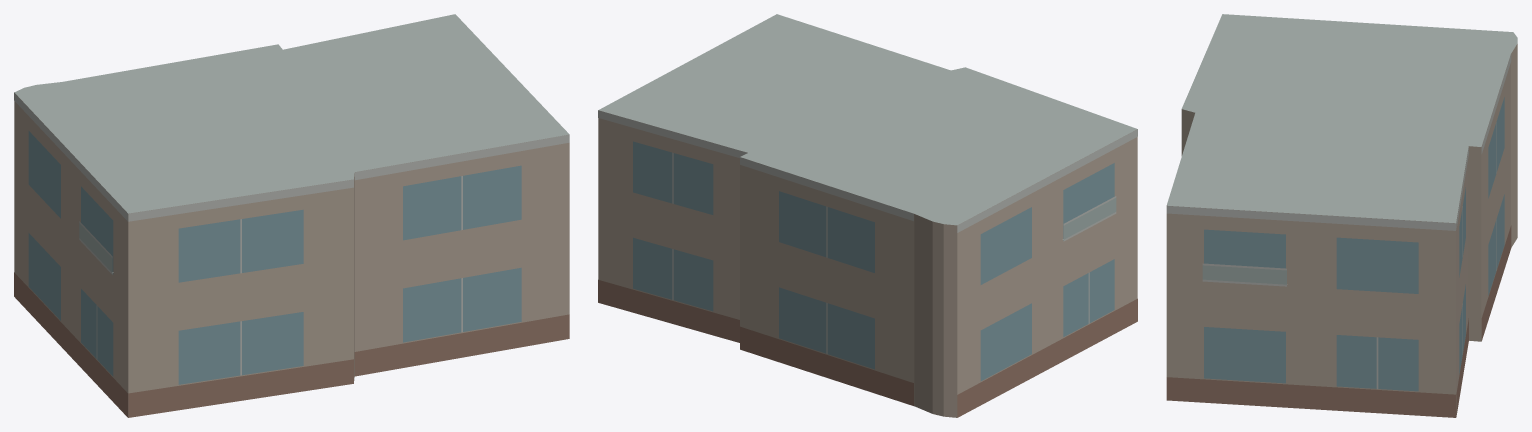
Rendered from survey-upis-33007118.glb.
3 views of the same model, side by side, from view 1: azimuth 30°, elevation 25°; view 2: azimuth 150°, elevation 25°; view 3: azimuth 270°, elevation 25° (orthographic). The views are drawn at different scales.
Visible parts, largest first — view 1: survey-upis-33007118.tmp; view 2: survey-upis-33007118.tmp; view 3: survey-upis-33007118.tmp.
Boxes of the visible parts, box(x1,y1,x2,y2) form: survey-upis-33007118.tmp: box(14, 14, 569, 417); survey-upis-33007118.tmp: box(598, 14, 1137, 417); survey-upis-33007118.tmp: box(1166, 14, 1517, 417).
Size of the model in its own units: 14.07 by 6.1 by 9.98.
